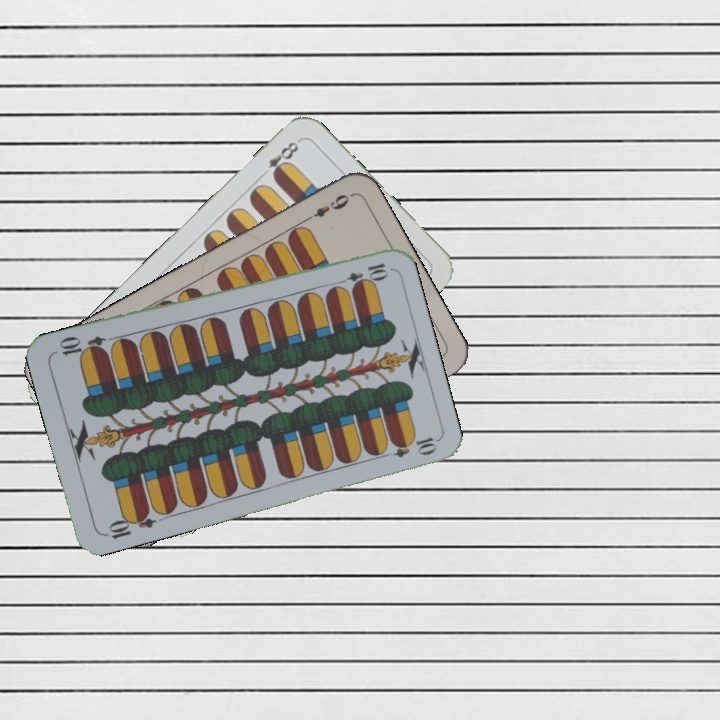E10: (100, 505, 158, 542), (332, 258, 391, 289)
E8: (263, 136, 303, 182)
E9: (300, 190, 352, 225)
